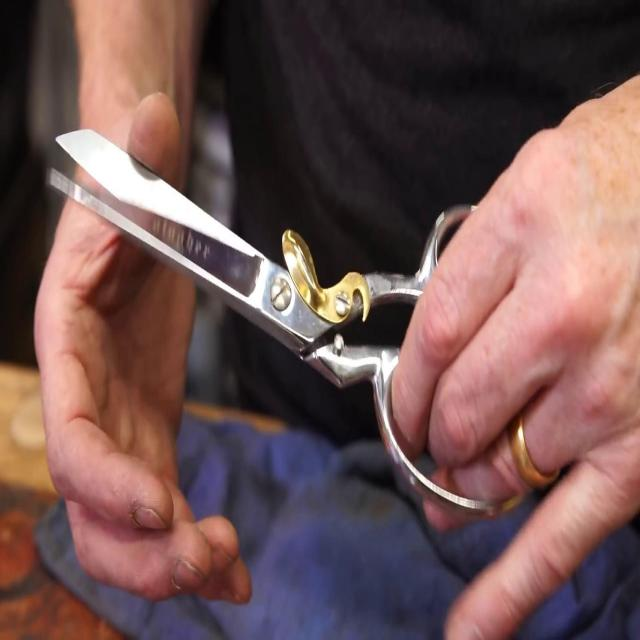scissor: (48, 128, 524, 516)
